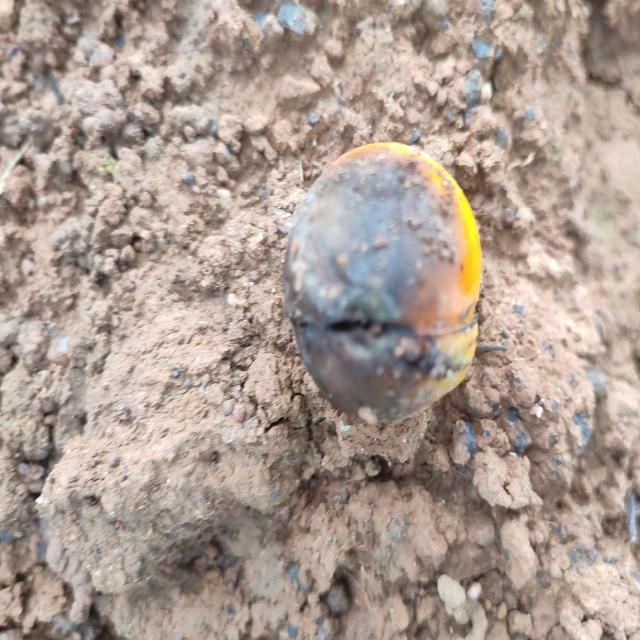damaged: (284, 143, 481, 422)
